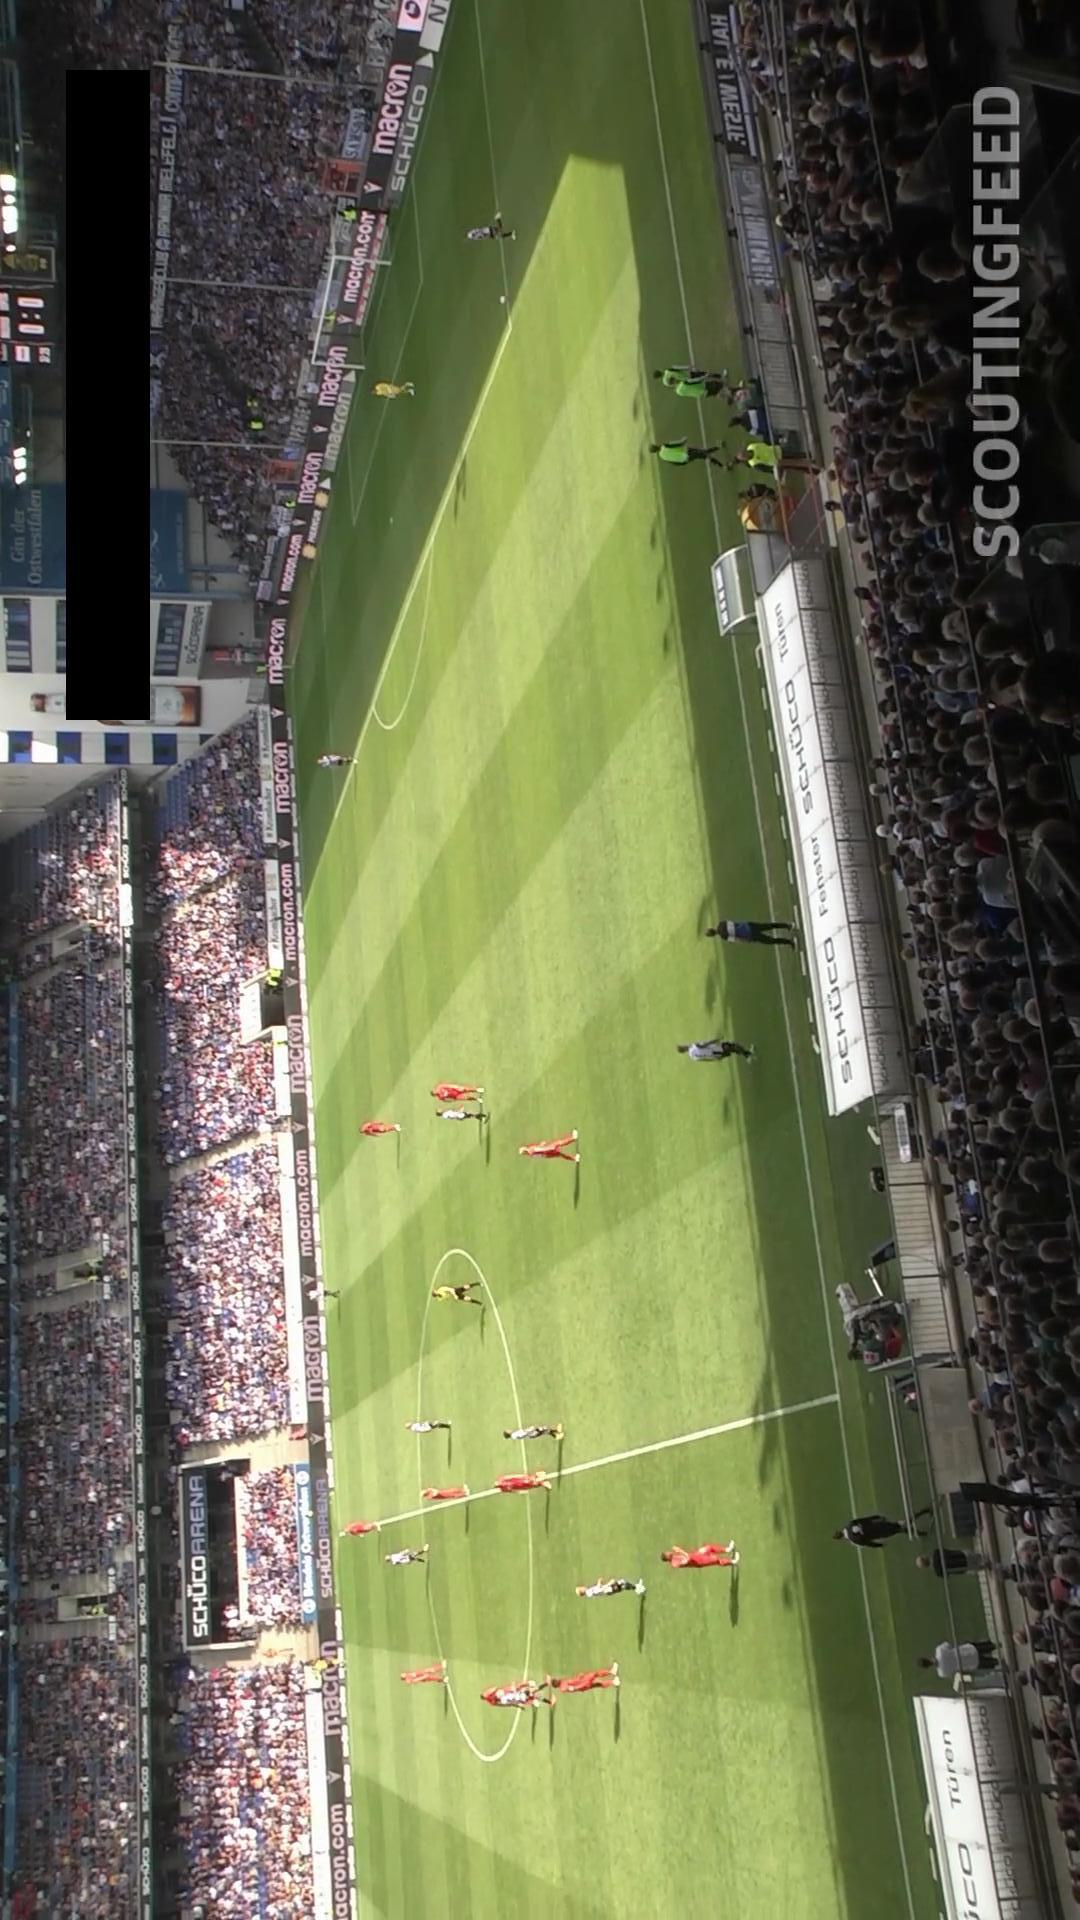ball: (497, 293, 509, 303)
goalkeeper: (369, 381, 416, 399)
player: (546, 1662, 621, 1693), (660, 1540, 739, 1569), (676, 1038, 757, 1065), (518, 1129, 580, 1162), (497, 1680, 555, 1710), (479, 1680, 537, 1709), (491, 1468, 555, 1494), (463, 210, 516, 241), (575, 1576, 646, 1598), (398, 1659, 453, 1687), (337, 1519, 386, 1543), (429, 1084, 485, 1104), (383, 1543, 429, 1566), (503, 1424, 562, 1441), (435, 1108, 488, 1123), (420, 1486, 467, 1501), (305, 1286, 343, 1304), (359, 1121, 401, 1137), (314, 753, 357, 768), (404, 1420, 451, 1433)
referee: (430, 1282, 483, 1307), (305, 1654, 349, 1675)
